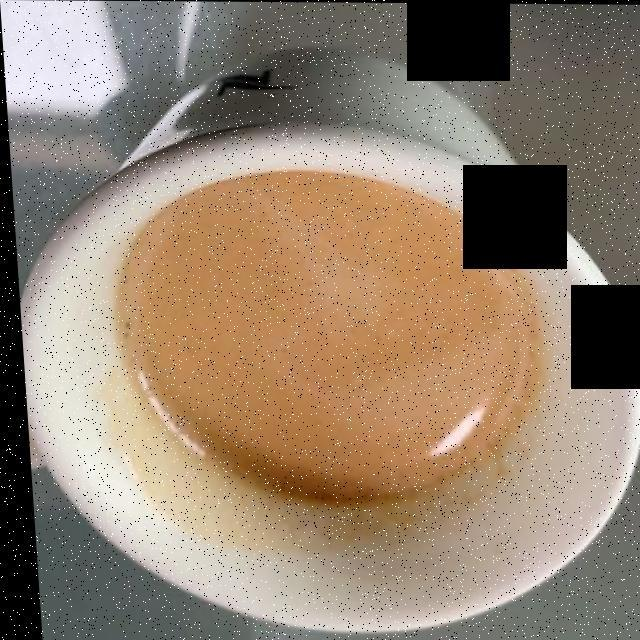espresso: (115, 177, 533, 513)
